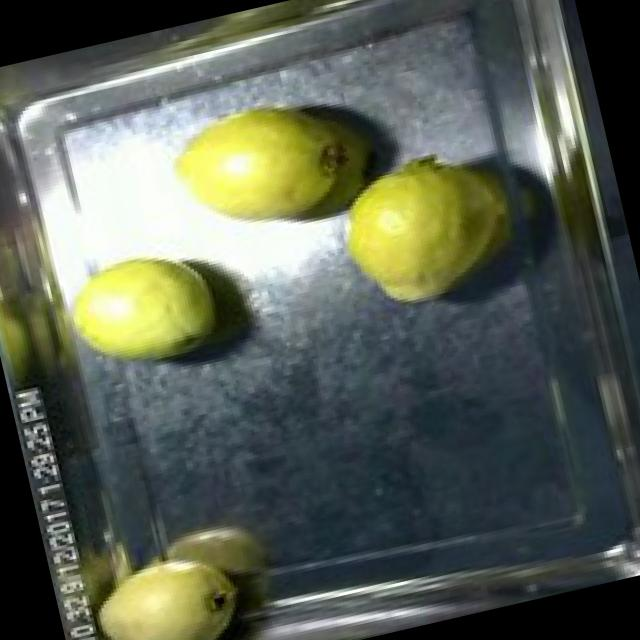Fruit: (148, 66, 402, 256), (314, 124, 535, 326), (43, 221, 239, 390), (54, 505, 276, 640)
